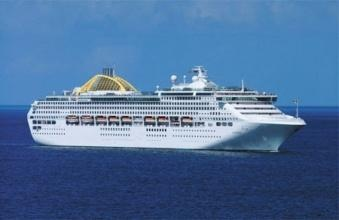youlun: (24, 71, 310, 151)
